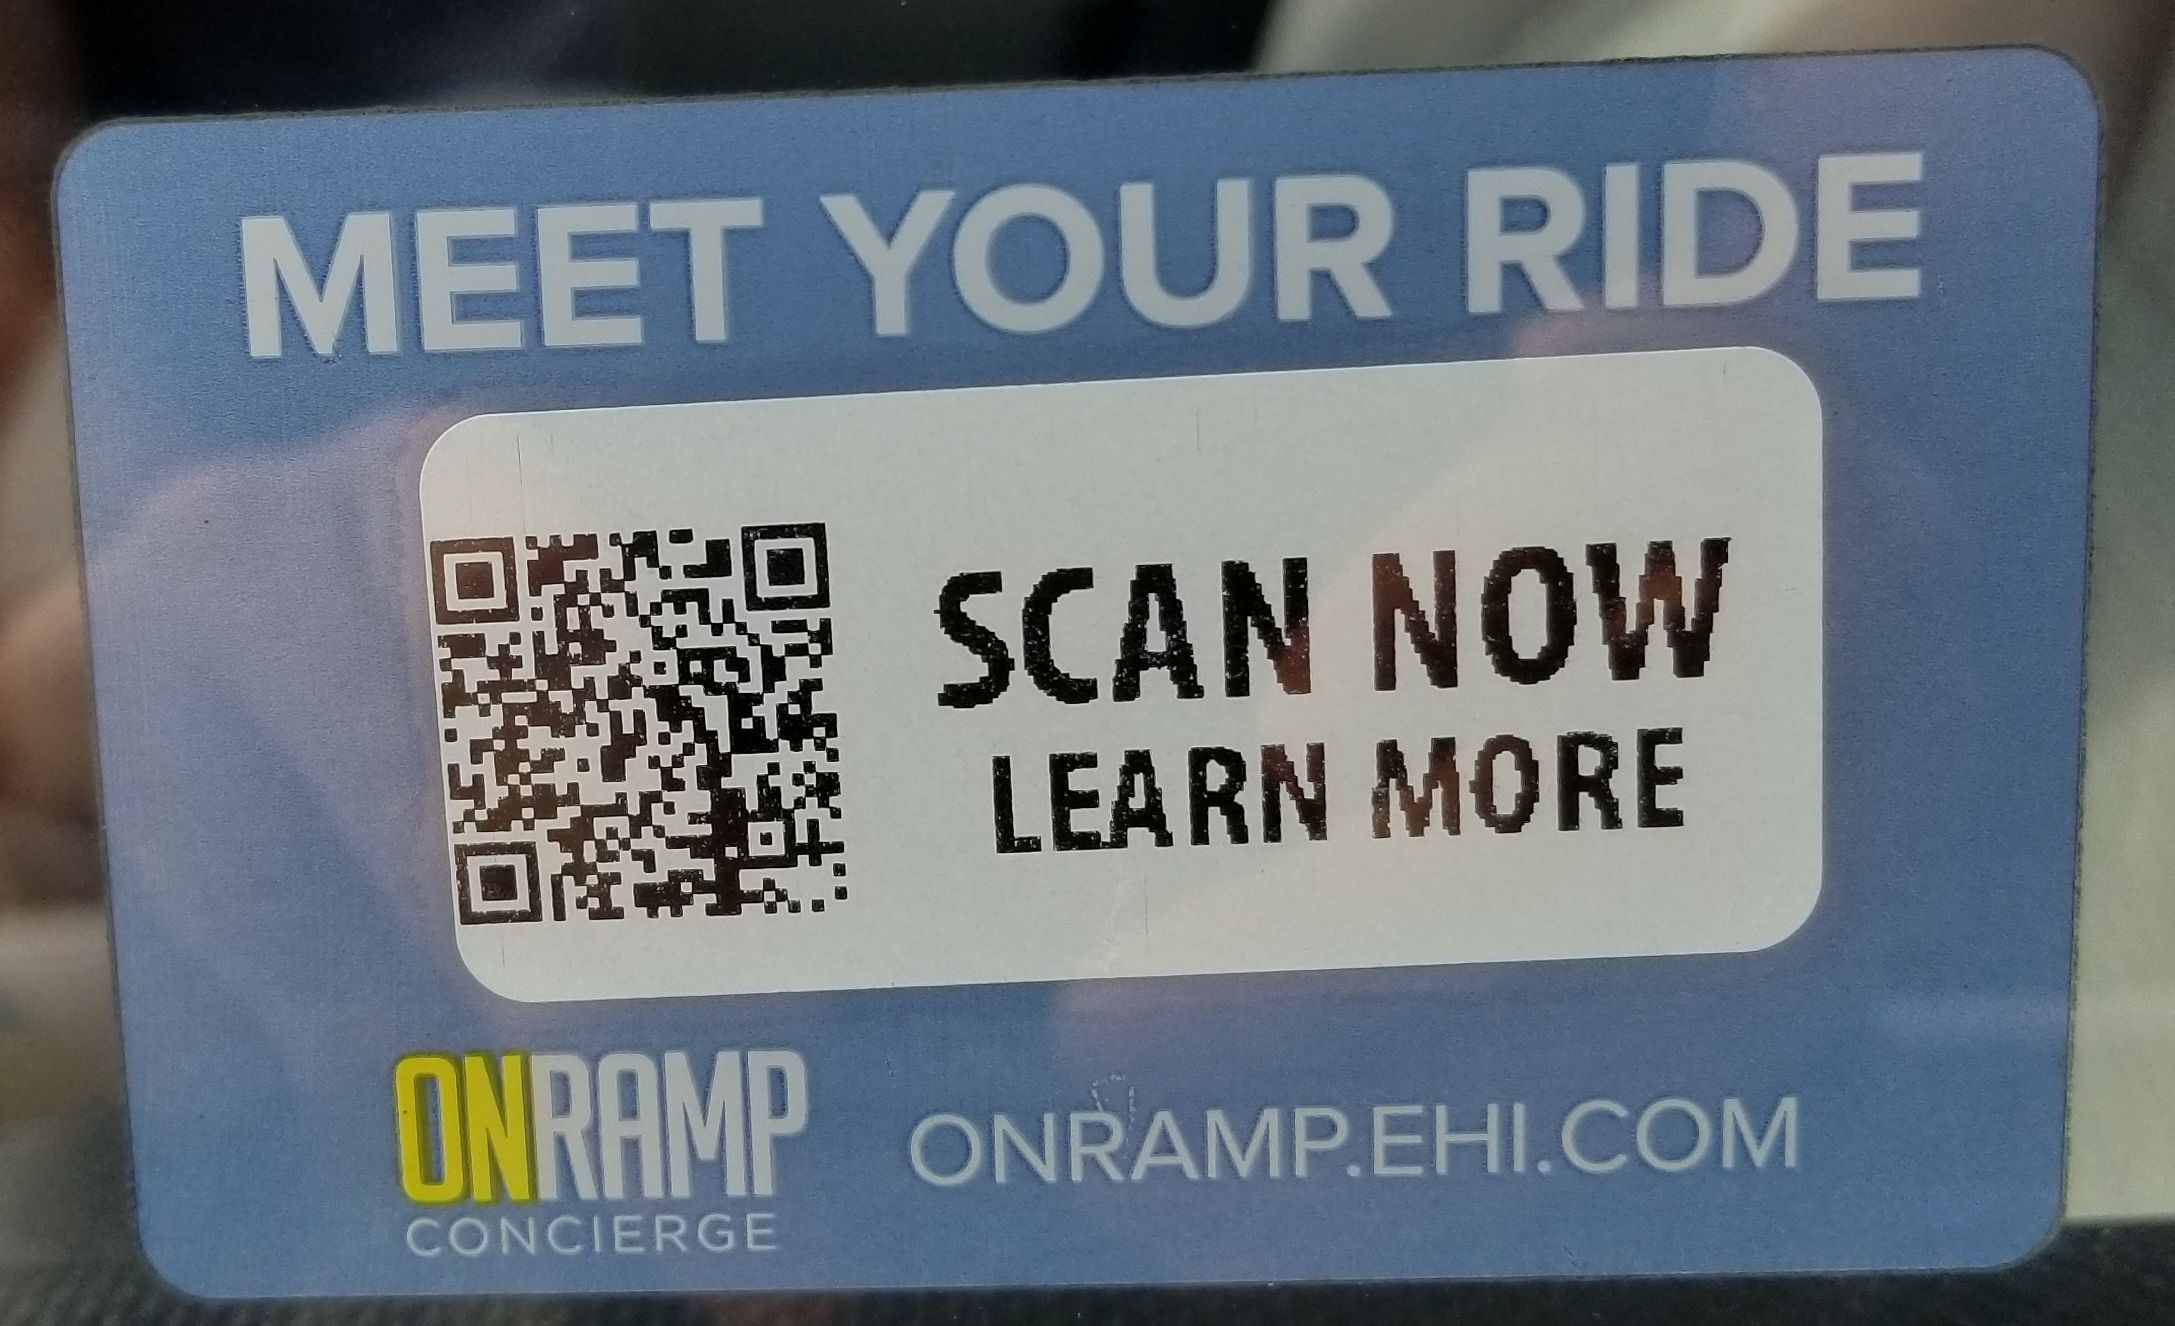QR_CODE: (378, 470, 927, 969)
